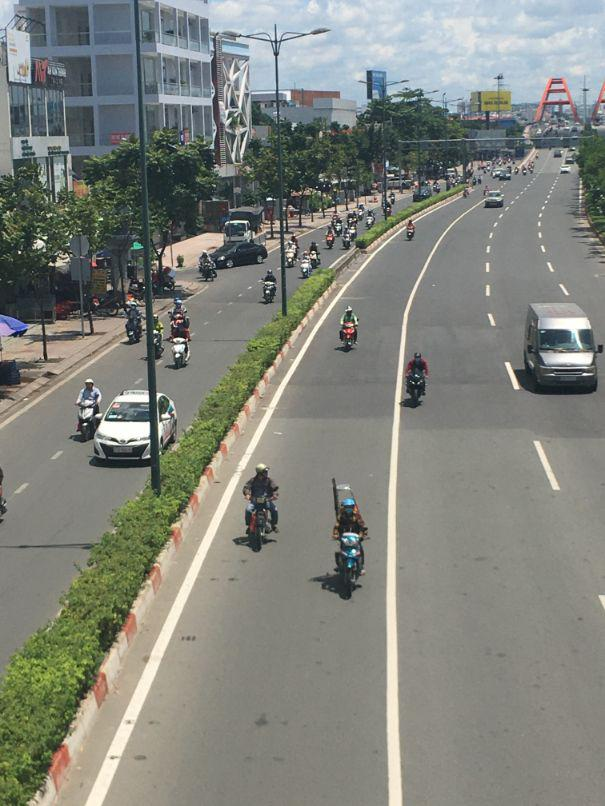car: (523, 301, 600, 395), (92, 392, 178, 467), (207, 242, 268, 274), (484, 193, 504, 209), (494, 169, 510, 180)
motorbike: (335, 535, 365, 596), (163, 330, 192, 370), (403, 371, 428, 407), (125, 308, 143, 344), (261, 273, 275, 304), (407, 219, 416, 239), (326, 231, 335, 247)
